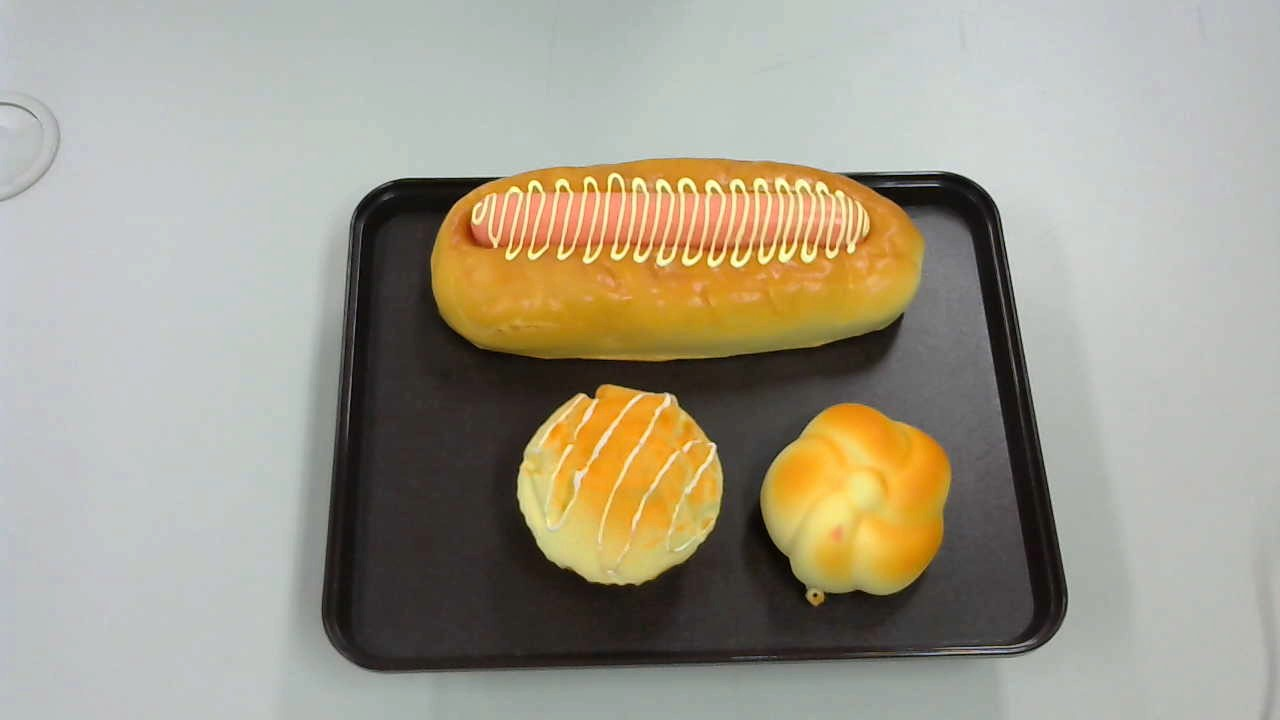croissant: (761, 402, 951, 604)
cupcake: (517, 382, 724, 587)
hot dog: (432, 157, 925, 361)
